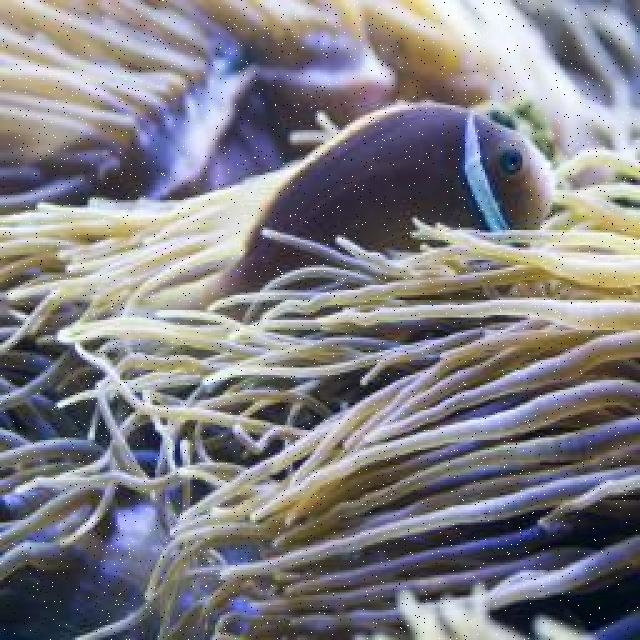fish: (134, 102, 556, 324)
reefs: (0, 0, 638, 638)
